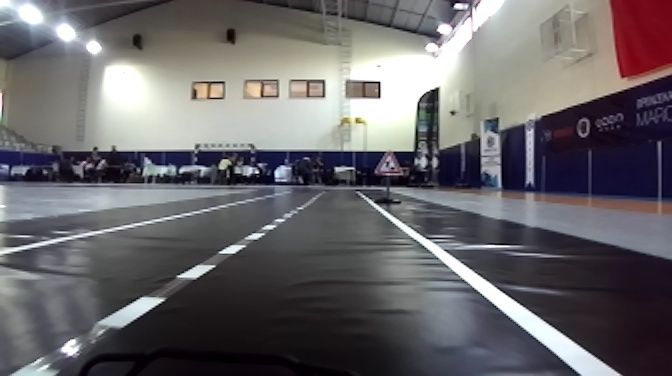yol_yapimi: (374, 145, 405, 172)
